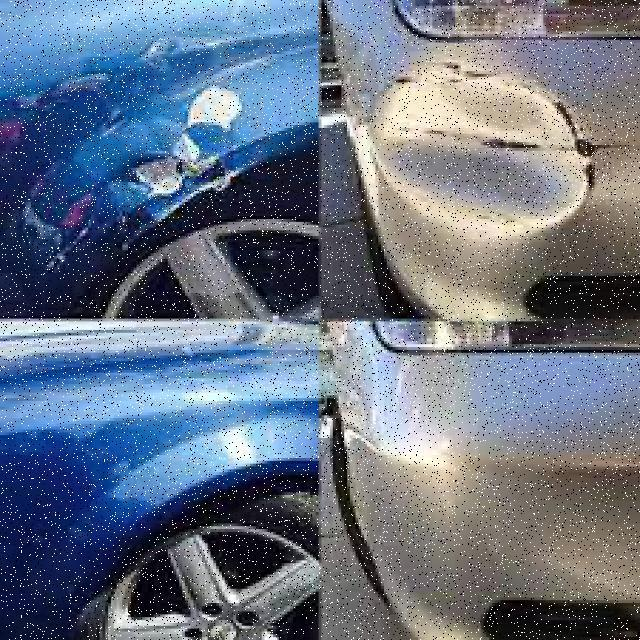fender-dent: (0, 0, 322, 325)
front-bumper-dent: (324, 0, 637, 330)
